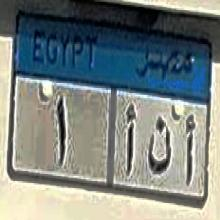1: (53, 95, 67, 165)
alif: (121, 101, 139, 178), (180, 114, 198, 184)
noon: (146, 120, 171, 172)
